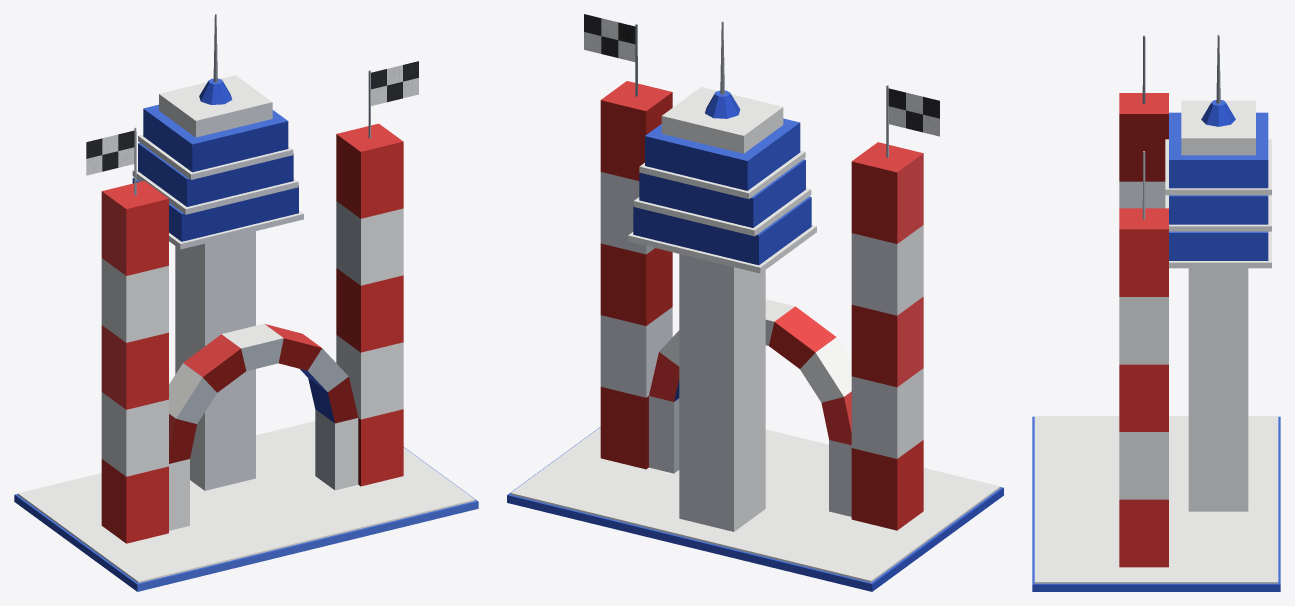
The model's file is landmark-far.glb.
3 renders of one model, left to right at view 1: azimuth 30°, elevation 25°; view 2: azimuth 150°, elevation 25°; view 3: azimuth 270°, elevation 25°, orthographic. The views are drawn at different scales.
Parts seen in each view (by area): view 1: racetower-far; view 2: racetower-far; view 3: racetower-far.
Part boxes in pixels (x1=…): racetower-far: x1=14, y1=14, x2=478, y2=591; racetower-far: x1=507, y1=14, x2=1003, y2=591; racetower-far: x1=1032, y1=34, x2=1280, y2=591.
Bounding box in the file's own units: 32 × 42 × 20.
Materials: 1 (1 with a texture image).
